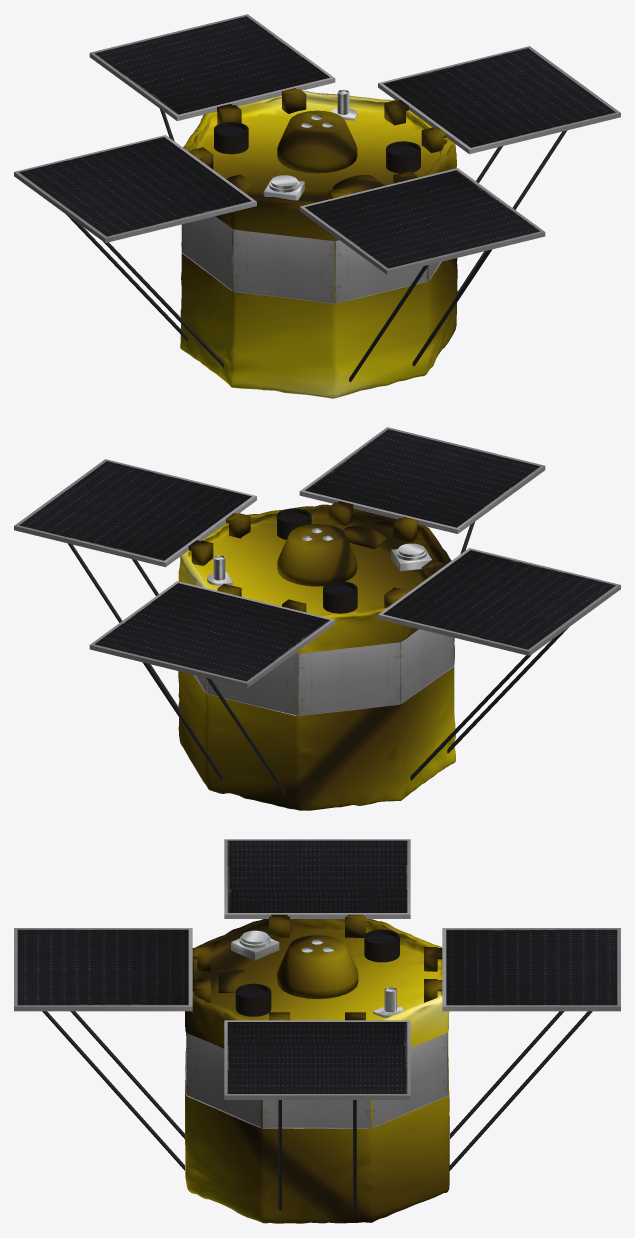
The model's file is acrimsat-web.glb.
3 views of the same model, one above another, from view 1: azimuth 30°, elevation 25°; view 2: azimuth 150°, elevation 25°; view 3: azimuth 270°, elevation 25° (orthographic).
Visible parts, largest first — view 1: shiny_panel, foil_gold, black_krinkle; view 2: shiny_panel, foil_gold, black_krinkle; view 3: shiny_panel, foil_gold, black_krinkle.
Boxes of the visible parts, x1,y1,x2,y2 form: shiny_panel: (14,14,620,303); foil_gold: (180,88,457,398); black_krinkle: (66,109,567,382); shiny_panel: (14,427,620,715); foil_gold: (178,501,455,810); black_krinkle: (67,522,568,794); shiny_panel: (14,839,620,1128); foil_gold: (185,914,449,1223); black_krinkle: (42,1011,592,1210).
Size of the model in its own units: 1.8 by 0.7335 by 1.8.
3 materials, 2 textured.
